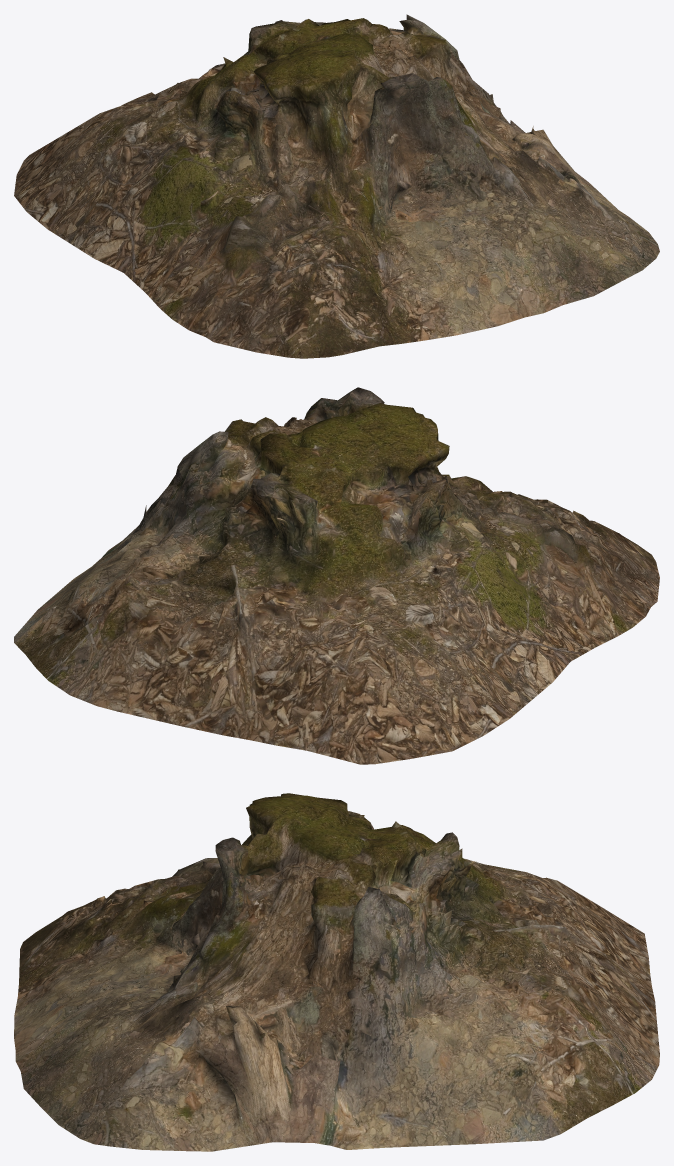
The model's file is tree_stump_01.gltf.
The picture shows the model from 3 angles, top to bottom: view 1: azimuth 30°, elevation 25°; view 2: azimuth 150°, elevation 25°; view 3: azimuth 270°, elevation 25°; orthographic projection. The views are drawn at different scales.
Visible parts, largest first — view 1: tree_stump_01; view 2: tree_stump_01; view 3: tree_stump_01.
Boxes of the visible parts, <box> form: tree_stump_01: <box>14,14,659,358</box>; tree_stump_01: <box>14,387,659,764</box>; tree_stump_01: <box>14,793,659,1151</box>.
Size of the model in its own units: 1.43 by 0.571 by 1.59.
1 material, 1 textured.
